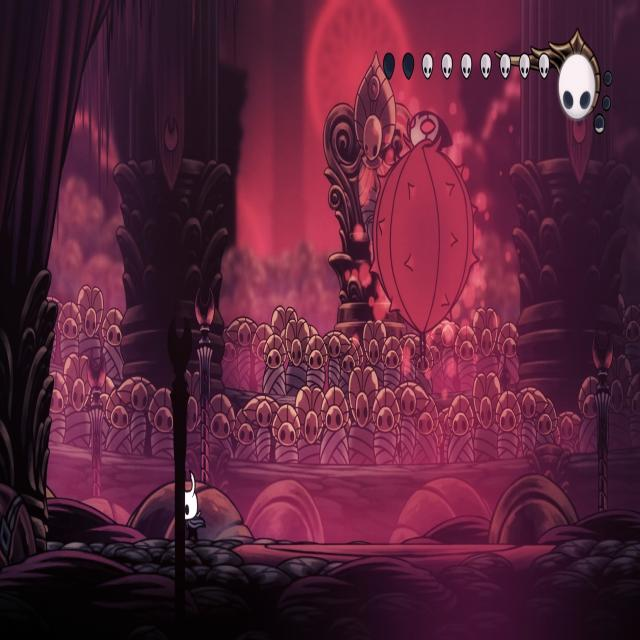Player: (181, 466, 205, 546)
Pufferfish: (367, 108, 482, 367)
